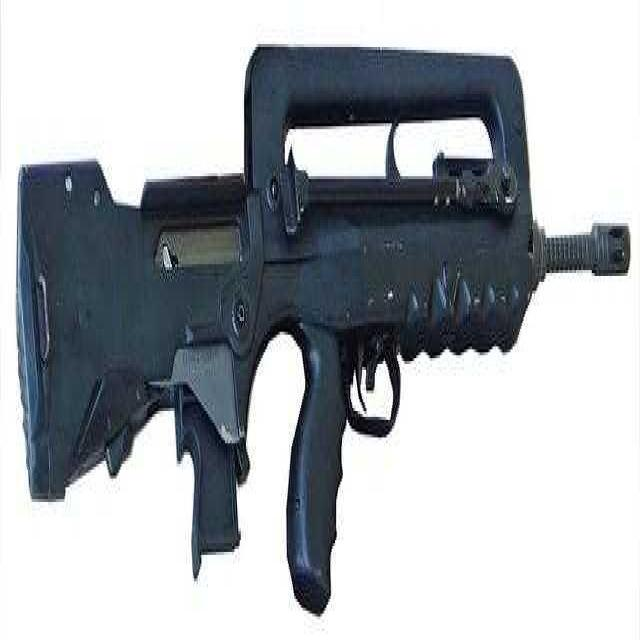heavyweapon: (15, 16, 640, 603)
